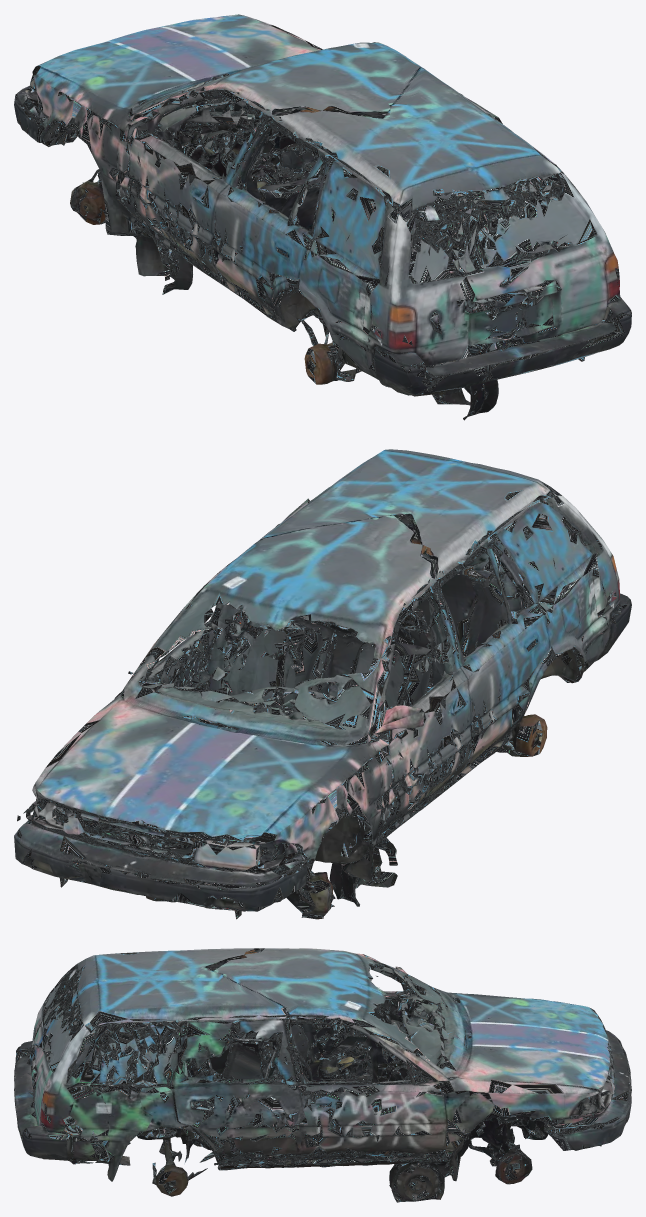
File: perua_pichada_scan.glb
3 views of the same model, one above another, from view 1: azimuth 30°, elevation 25°; view 2: azimuth 150°, elevation 25°; view 3: azimuth 270°, elevation 25° (orthographic). The views are drawn at different scales.
Visible parts, largest first — view 1: Object_2; view 2: Object_2; view 3: Object_2.
Boxes of the visible parts, left/top/right/bottom form: Object_2: left=14, top=14, right=631, bottom=420; Object_2: left=14, top=449, right=631, bottom=919; Object_2: left=14, top=948, right=631, bottom=1202.
Bounding box in the file's own units: 1.81 × 1.47 × 4.34.
1 material, 1 textured.
